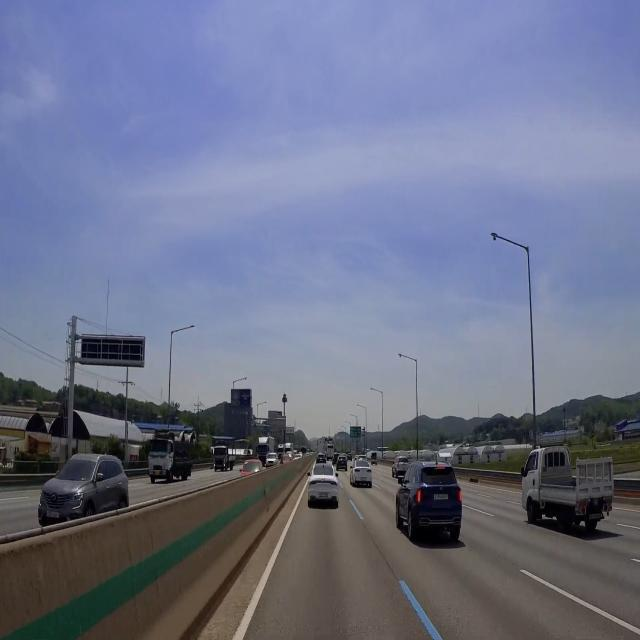car: (43, 504, 63, 523), (588, 507, 607, 525), (433, 491, 452, 508), (316, 486, 331, 504), (356, 472, 371, 486), (151, 468, 165, 478)
